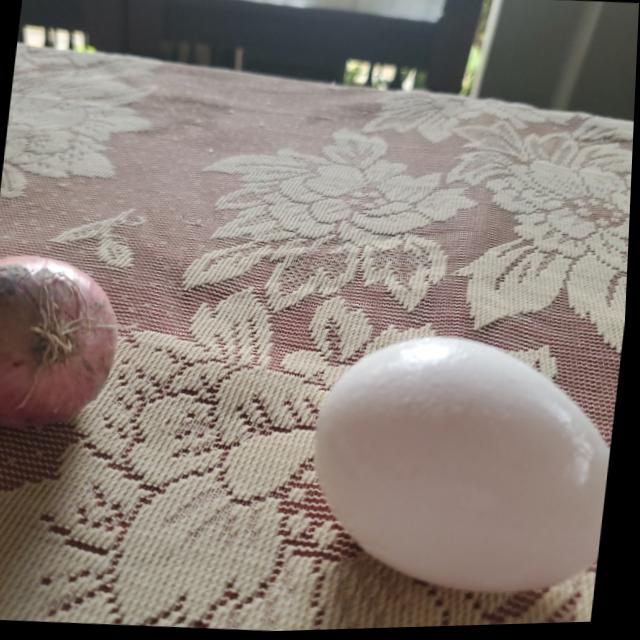egg: (299, 324, 626, 609)
onion: (0, 248, 131, 427)
